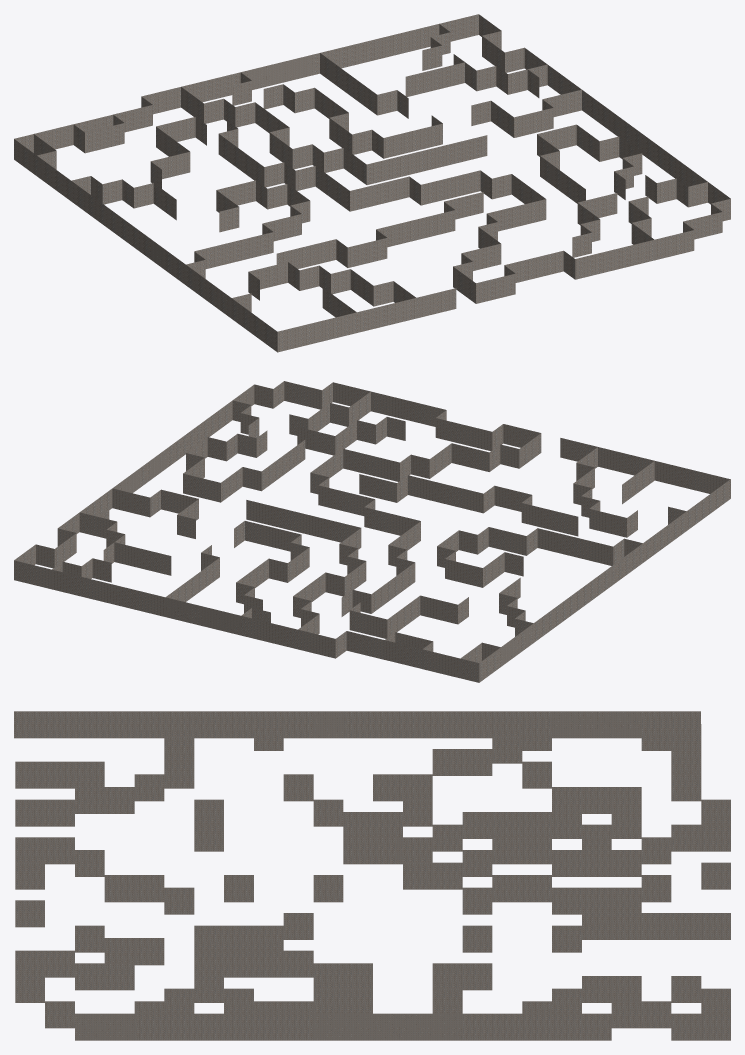
The model's file is mazegenerated2.gltf.
3 views of the same model, one above another, from view 1: azimuth 30°, elevation 25°; view 2: azimuth 150°, elevation 25°; view 3: azimuth 270°, elevation 25° (orthographic). The views are drawn at different scales.
Visible parts, largest first — view 1: Maze; view 2: Maze; view 3: Maze.
Part boxes in pixels (bbox=[...]): Maze: bbox=[14, 14, 730, 352]; Maze: bbox=[14, 381, 730, 682]; Maze: bbox=[14, 711, 730, 1040].
Size of the model in its own units: 75.04 by 3.13 by 75.15.
